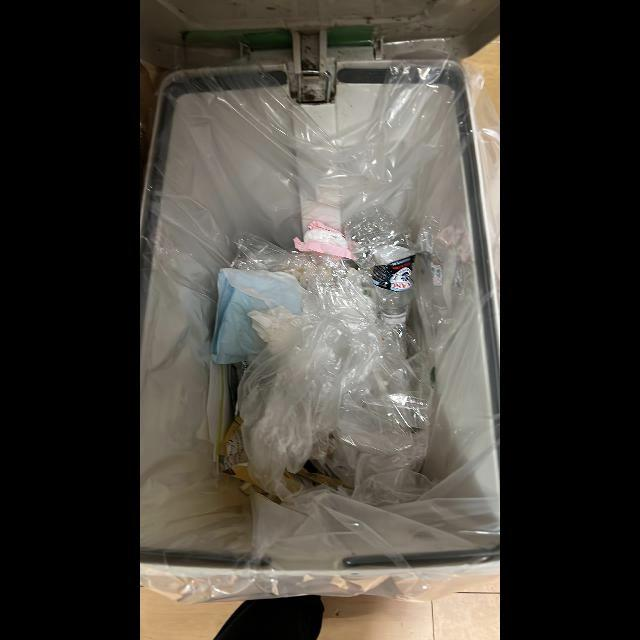plastic_bag: (235, 293, 383, 503)
plastic_bottle: (344, 207, 421, 328)
